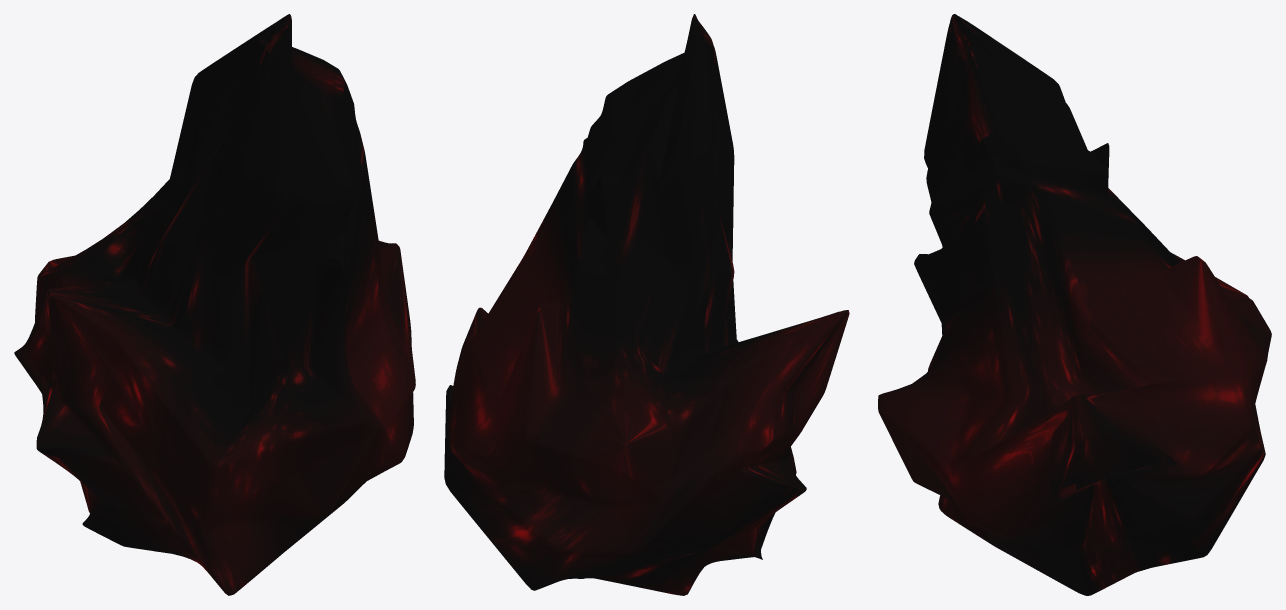
Rendered from black_soul_stone.glb.
The picture shows the model from 3 angles, left to right: view 1: azimuth 30°, elevation 25°; view 2: azimuth 150°, elevation 25°; view 3: azimuth 270°, elevation 25°; orthographic projection. The views are drawn at different scales.
Parts seen in each view (by area): view 1: Box001; view 2: Box001; view 3: Box001.
Boxes of the visible parts, x1,y1,x2,y2 form: Box001: (14,14,415,595); Box001: (444,14,849,595); Box001: (878,14,1271,595).
Size of the model in its own units: 86.22 by 123 by 78.99.
1 material, 1 textured.
